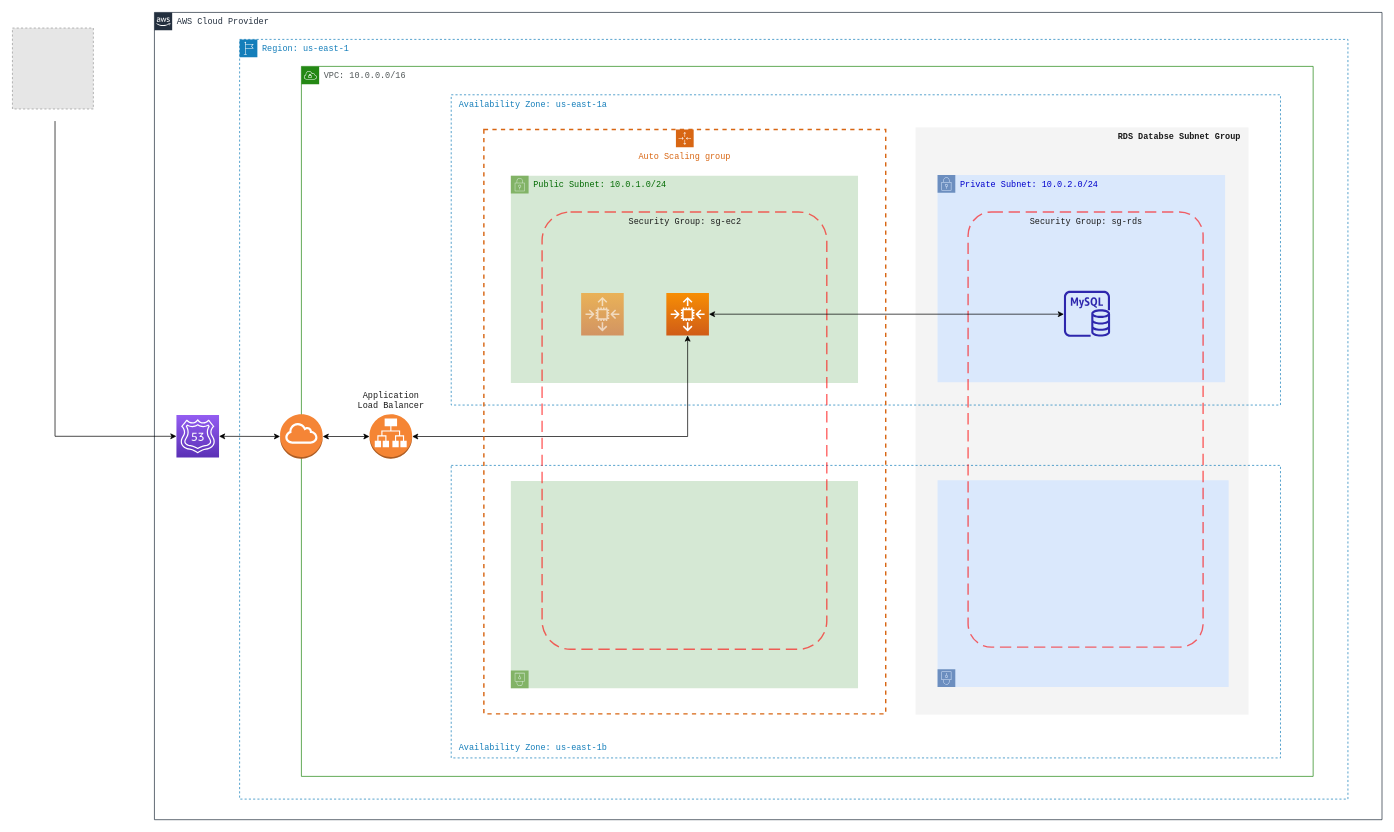
Image size: 1394x832. Some labels were removed from this diagram. Grey dashed boxes stand in for pictures. The centre of each missing label's shape, as x and y in pixels:
"Application Databse" belongs at (1087,313).
"Application Webserver" belongs at (687,314).
"Available Private Subnet: 10.0.4.0/24" belongs at (1082,583).
"Available Public Subnet: 10.0.3.0/24" belongs at (684,584).
"Hosted Zone" belongs at (197,436).
"Internet Gateway" belongs at (301,436).
